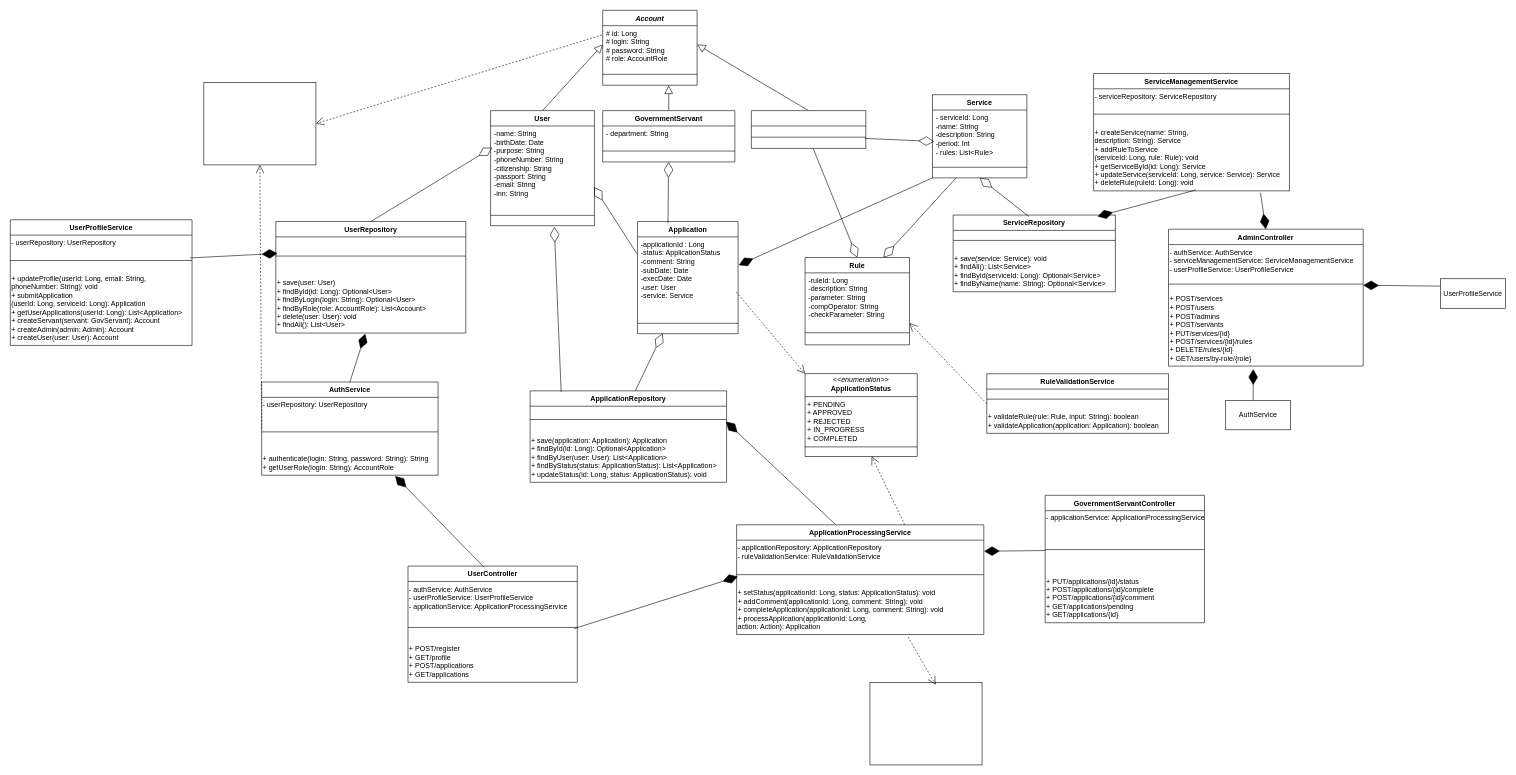
This 1516x775 diagram has some shape labels left out. The shapes that lost their labels are listed below. From the top down, each one's centre as x and y in pixels, then its label:
At point 259,123: "<<enumeration>> AccountRole + USER + ADMIN + GOVERNMENT_SERVANT".
At point 808,129: "Admin".
At point 925,723: "<<enumeration>> Action + APPROVE + REQUEST_CHANGE + REJECT".
